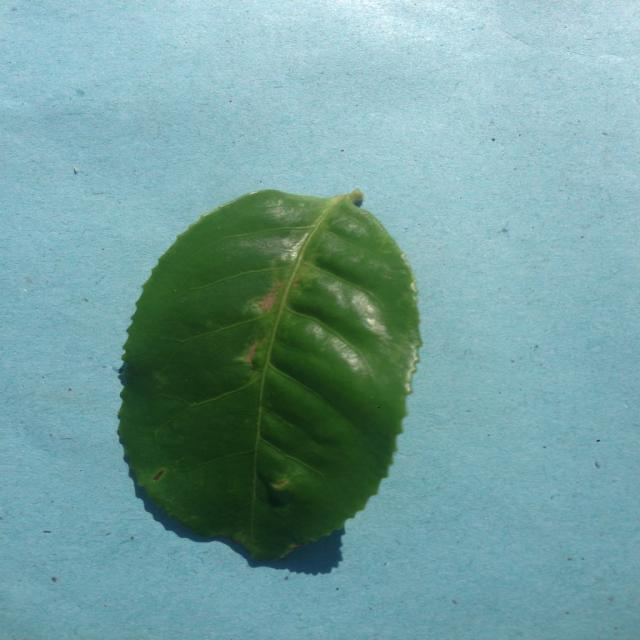Healthy: (123, 170, 441, 580)
